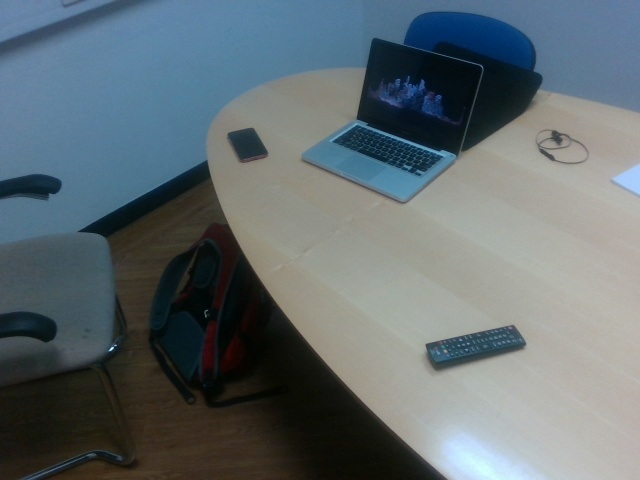remote: (423, 324, 527, 370)
